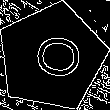O_W: (22, 31, 81, 84)
